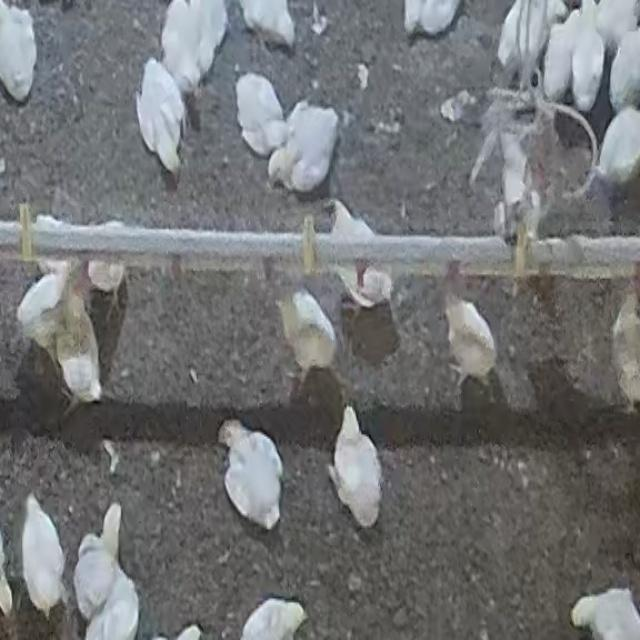chicken: (219, 417, 284, 531), (324, 198, 384, 308), (331, 407, 385, 529), (136, 61, 186, 180), (442, 291, 501, 388), (20, 494, 66, 617), (162, 0, 223, 91), (281, 102, 338, 194), (76, 506, 123, 613), (495, 0, 566, 65), (233, 72, 286, 158), (83, 222, 130, 315), (279, 297, 332, 374), (59, 321, 104, 407), (610, 288, 640, 410), (571, 584, 640, 637), (86, 568, 136, 640), (594, 106, 640, 184), (571, 4, 604, 109), (1, 3, 36, 98), (12, 262, 68, 319), (240, 597, 307, 639), (538, 21, 572, 97), (244, 0, 293, 49), (611, 28, 640, 110), (407, 0, 458, 38), (597, 0, 640, 43)
